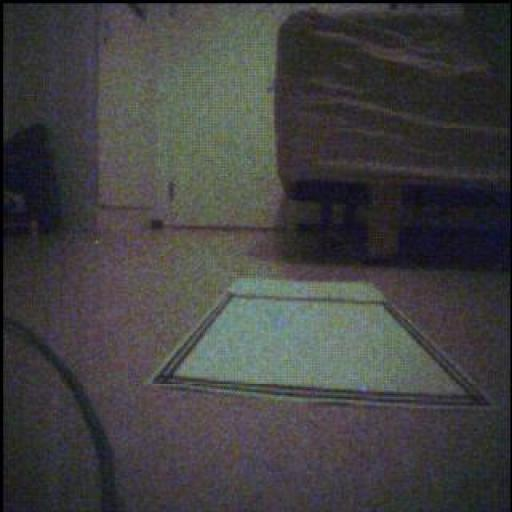pad: (152, 281, 491, 407)
